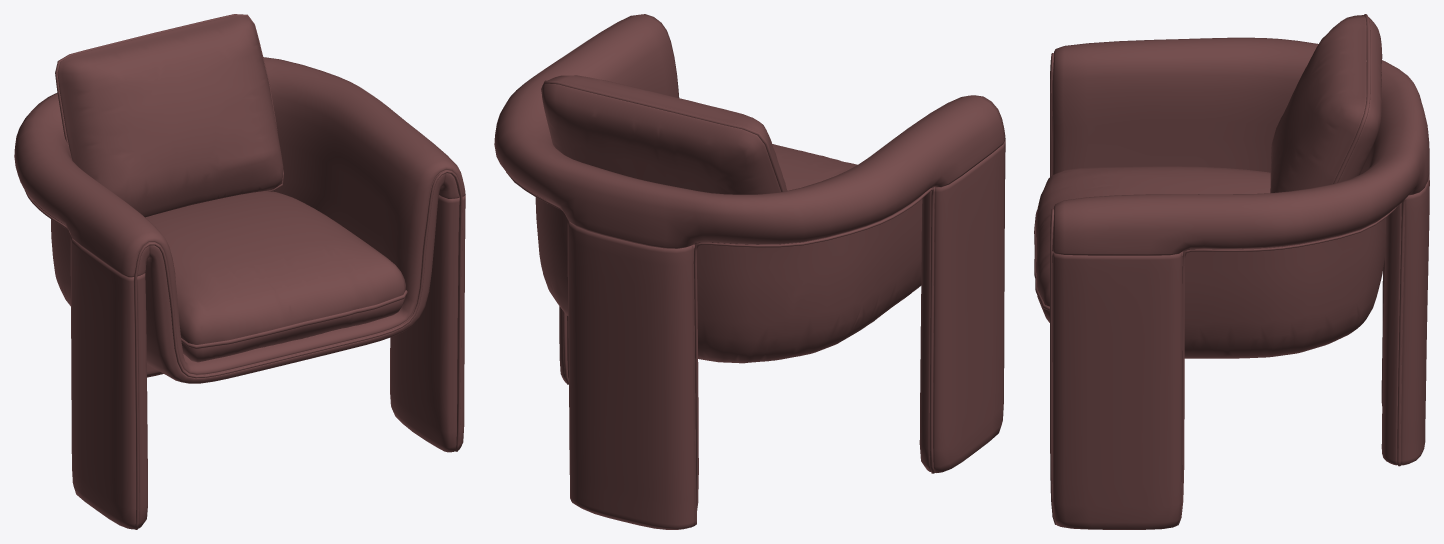
The model's file is armchair_2.glb.
3 renders of one model, left to right at view 1: azimuth 30°, elevation 25°; view 2: azimuth 150°, elevation 25°; view 3: azimuth 270°, elevation 25°, orthographic. The views are drawn at different scales.
Parts seen in each view (by area): view 1: Floria_Velvet_CHair_001, Floria_Velvet_CHair_002; view 2: Floria_Velvet_CHair_001, Floria_Velvet_CHair_002; view 3: Floria_Velvet_CHair_001, Floria_Velvet_CHair_002.
Part boxes in pixels (x1=…): Floria_Velvet_CHair_001: x1=14, y1=15, x2=465, y2=529; Floria_Velvet_CHair_002: x1=24, y1=14, x2=462, y2=529; Floria_Velvet_CHair_001: x1=494, y1=14, x2=1005, y2=529; Floria_Velvet_CHair_002: x1=506, y1=80, x2=934, y2=510; Floria_Velvet_CHair_001: x1=1036, y1=15, x2=1429, y2=529; Floria_Velvet_CHair_002: x1=1034, y1=14, x2=1405, y2=520.
Bounding box in the file's own units: 0.9053 × 0.8861 × 0.8286.
